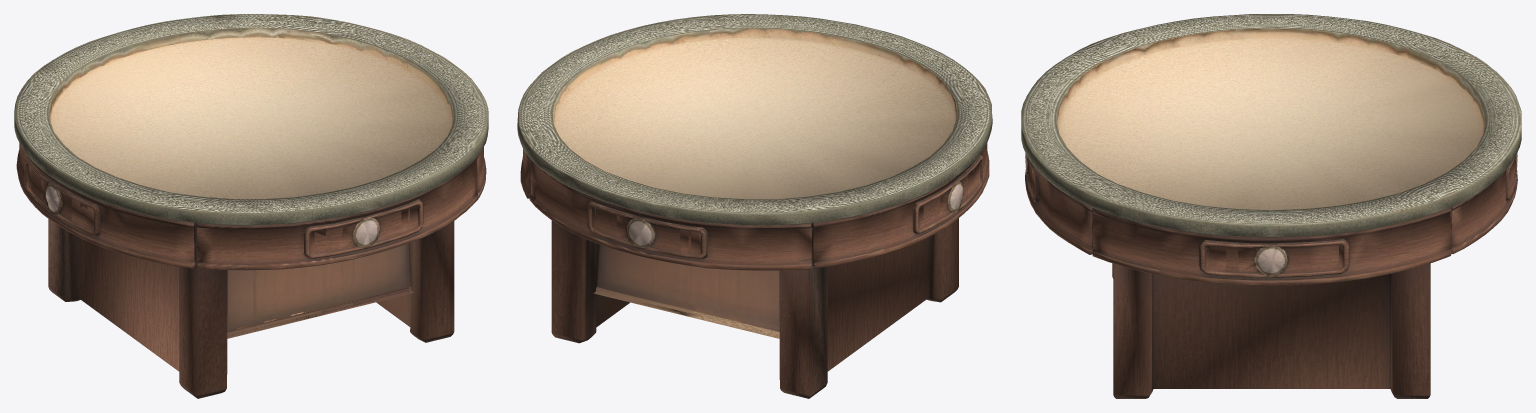
Rendered from tripo_convert_536e6678-3785-43f8-b864-087a847da18f.fbx.
The picture shows the model from 3 angles, left to right: view 1: azimuth 30°, elevation 25°; view 2: azimuth 150°, elevation 25°; view 3: azimuth 270°, elevation 25°; orthographic projection. The views are drawn at different scales.
Visible parts, largest first — view 1: tripo_node_536e6678; view 2: tripo_node_536e6678; view 3: tripo_node_536e6678.
Part boxes in pixels (x1,y1,x2,y2): tripo_node_536e6678: (14,14,488,398); tripo_node_536e6678: (517,14,992,398); tripo_node_536e6678: (1021,14,1521,398).
Size of the model in its own units: 0.998 by 0.4707 by 0.998.
1 material, 1 textured.
